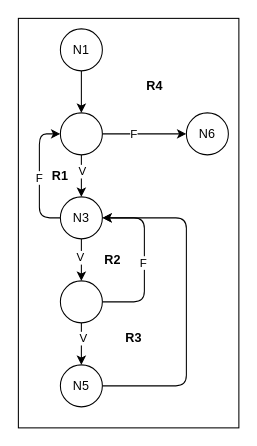
Image size: 257x446. Some labels were removed from this diagram. The centre of each missing label's shape, as x and y in pixels:
N2: point 80,133
N4: point 80,301
